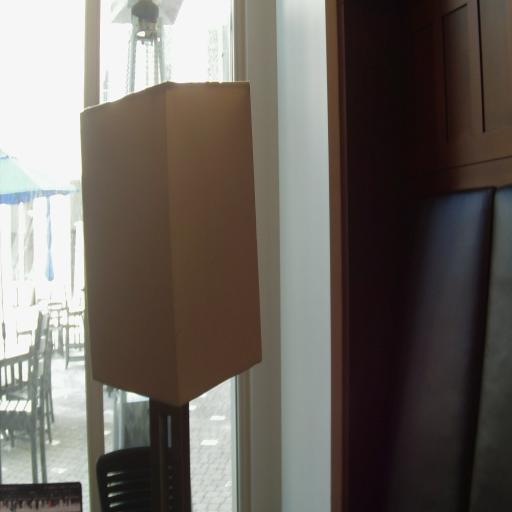lamp: (80, 81, 261, 512)
